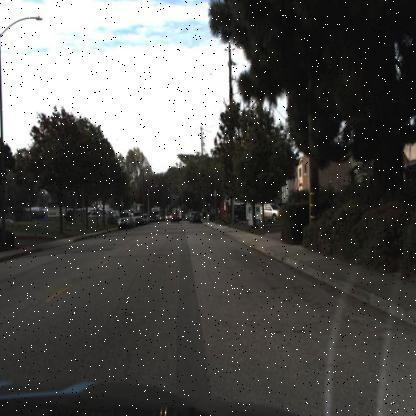car: (256, 196, 283, 230), (116, 208, 134, 232), (84, 206, 107, 223), (189, 207, 202, 227), (168, 207, 182, 225)
